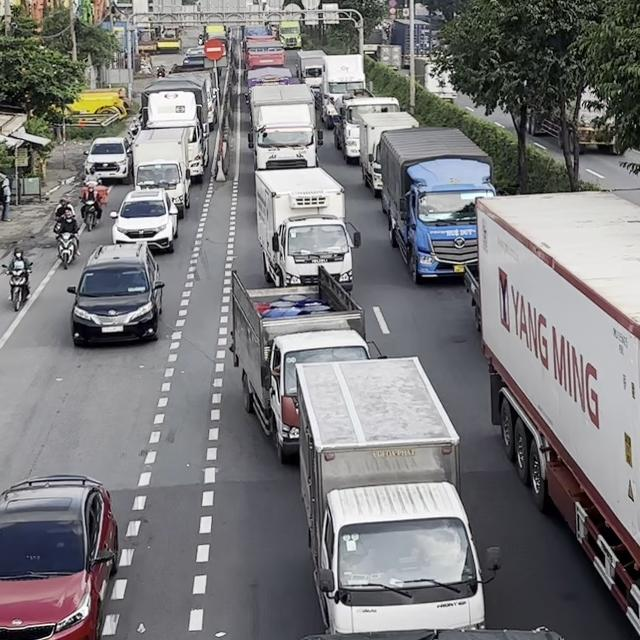car: (0, 473, 119, 639), (66, 241, 164, 347), (109, 186, 179, 253), (83, 136, 132, 184)
motorcycle: (1, 262, 33, 311), (53, 223, 82, 269), (79, 196, 103, 231), (156, 65, 166, 78), (197, 33, 205, 44)
truck: (462, 188, 639, 639), (294, 354, 500, 636), (228, 265, 381, 464), (379, 125, 497, 284), (253, 165, 361, 291), (246, 83, 323, 170), (138, 89, 208, 181), (357, 110, 420, 197), (134, 128, 191, 218), (332, 95, 400, 164), (319, 53, 366, 129), (278, 19, 302, 49)
